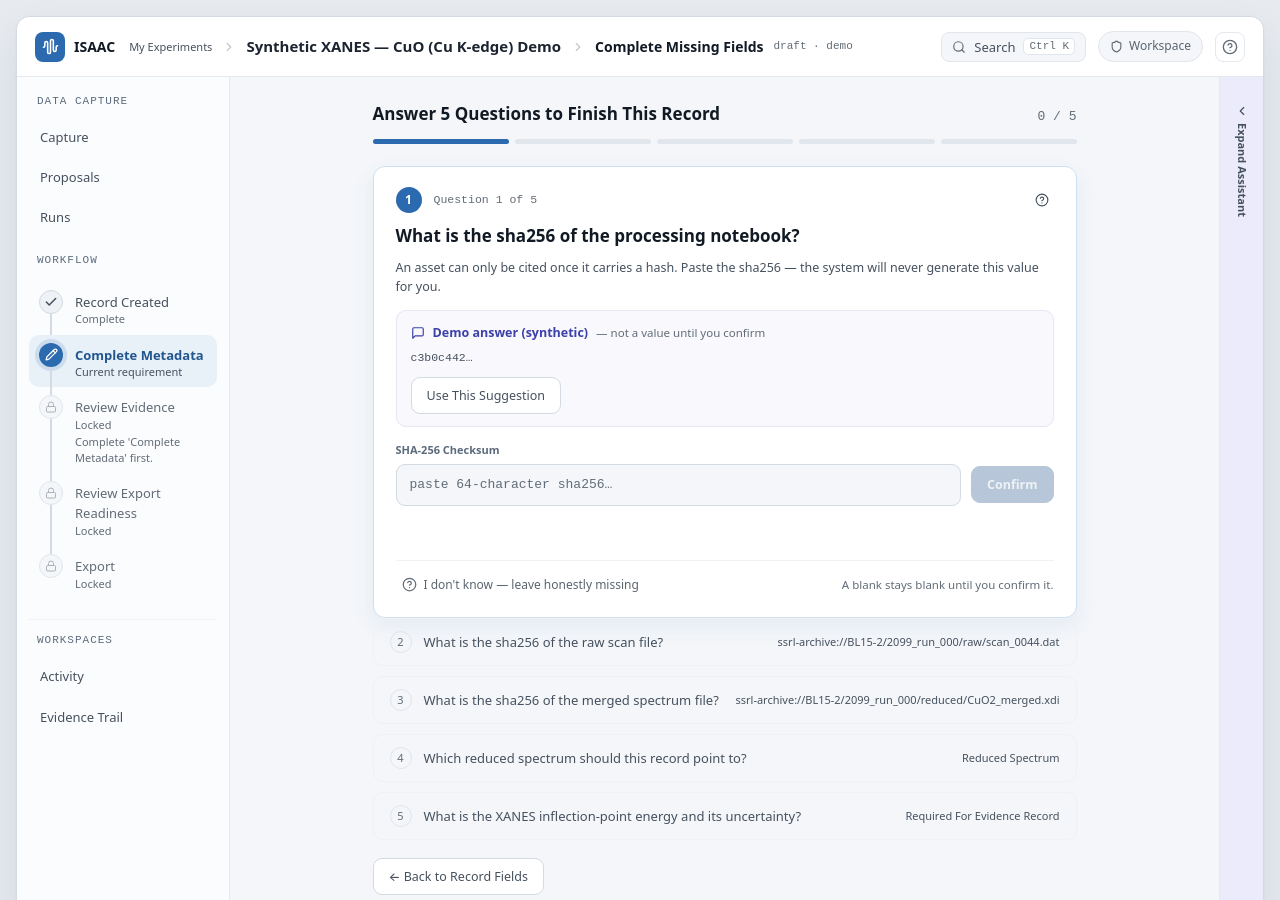
Test case: S4 · an answer is shown as confirmed only when the server reported it applied › POSITIVE CONTROL: an applied answer (200, blocker resolved, changed:true) still shows the confirmed row
expect the heading "What is the sha256 of the processing notebook?" is shown: met, box [396, 224, 800, 247]
Type "c3b0c44298fc1c149afbf4c8996fb92427ae41e4649b934ca495991b7852b345" into the field named "Asset Hash" at point(678, 485), box [396, 464, 961, 506]
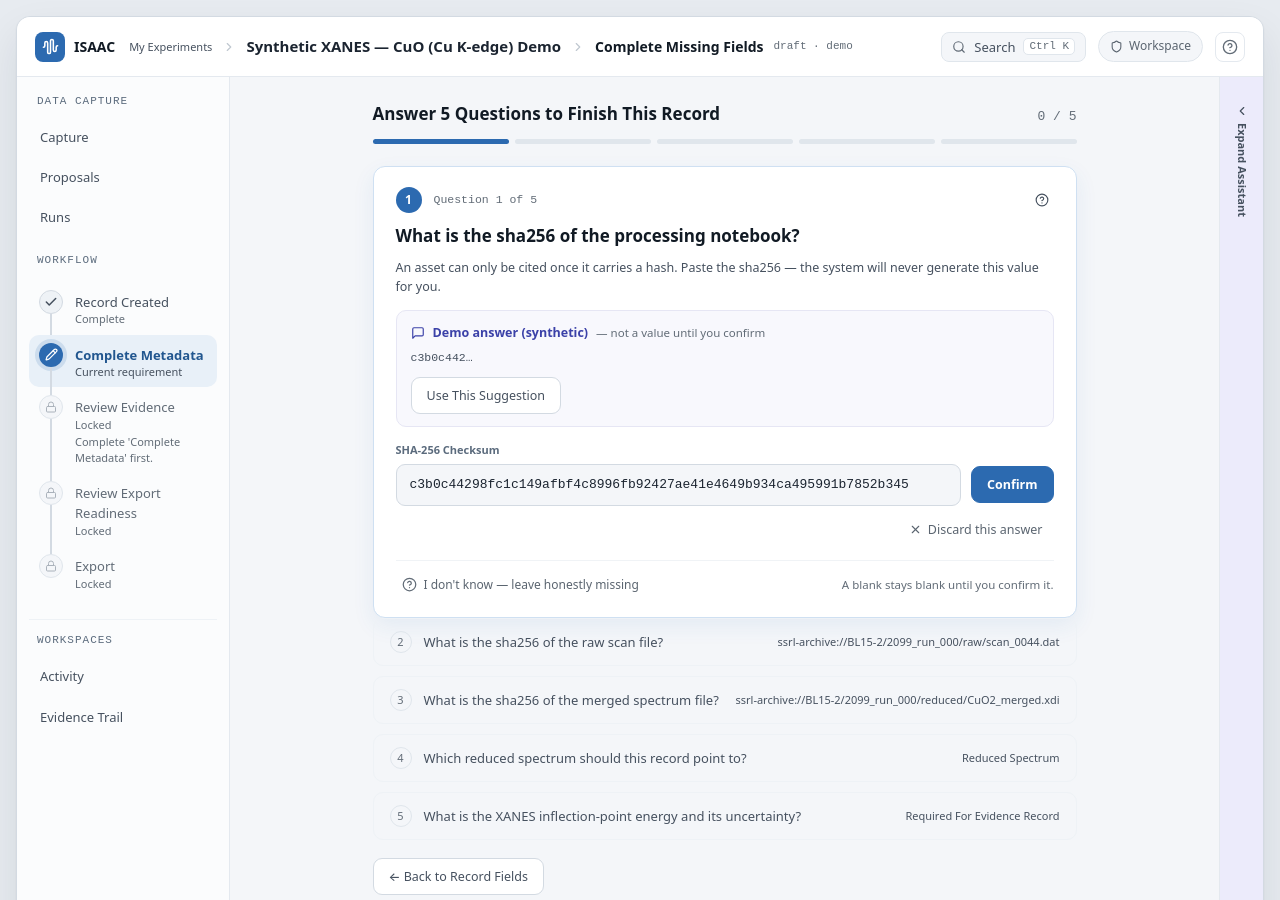
Click the button "Confirm" at point(1012, 485), box [971, 466, 1054, 503]
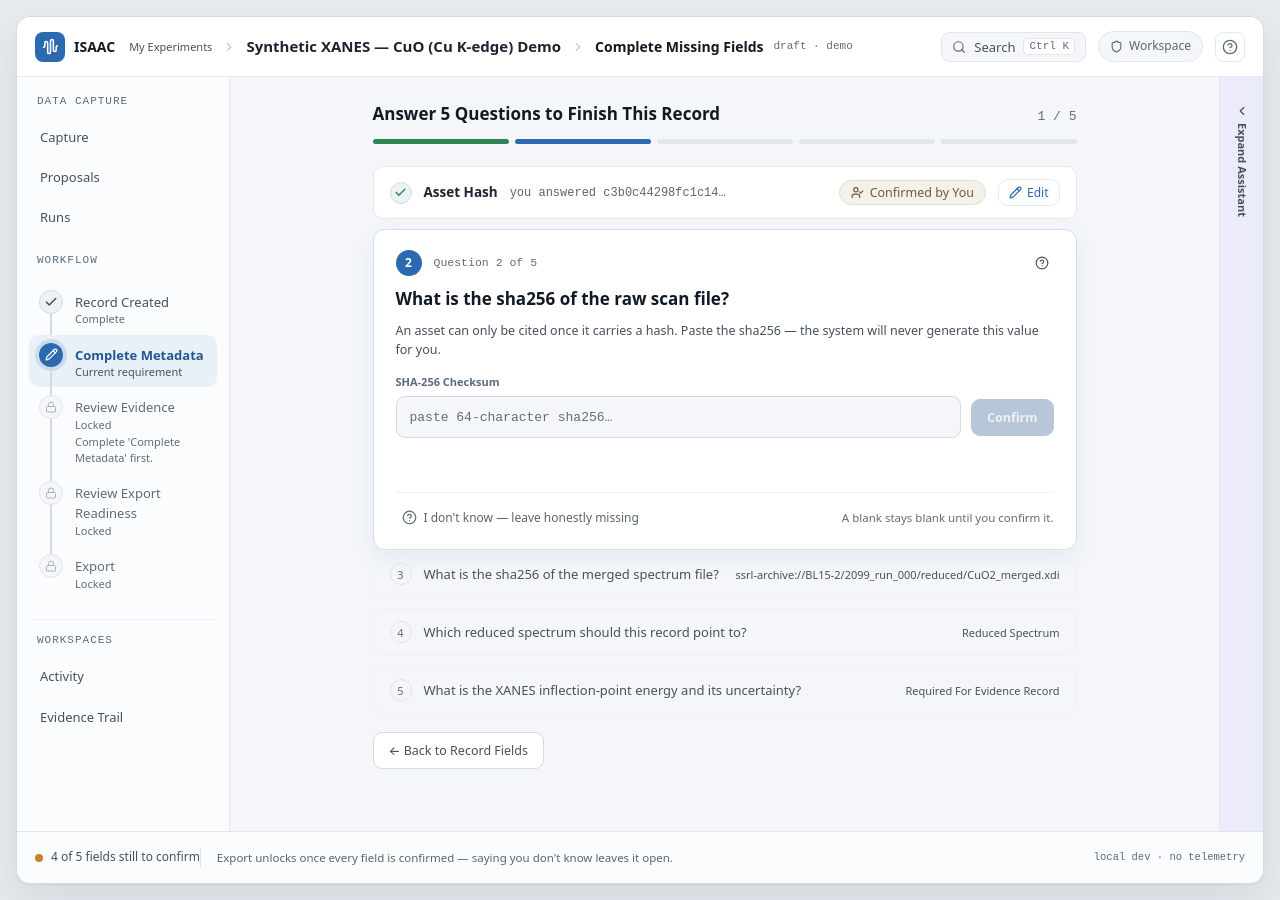
expect the text "1 / 5" is shown: met, box [1038, 107, 1076, 127]
expect the text "Confirmed by You" is shown: met, box [870, 187, 974, 199]
